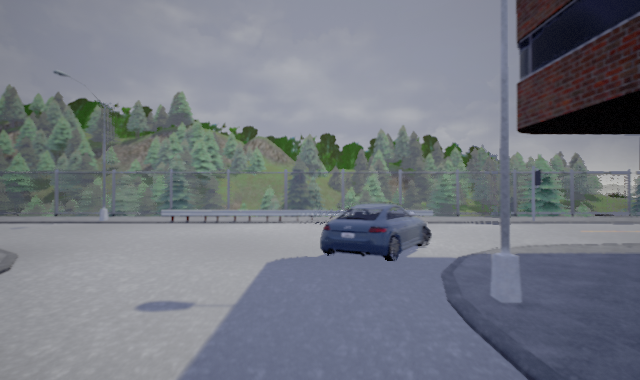vehicle: (318, 201, 432, 262)
